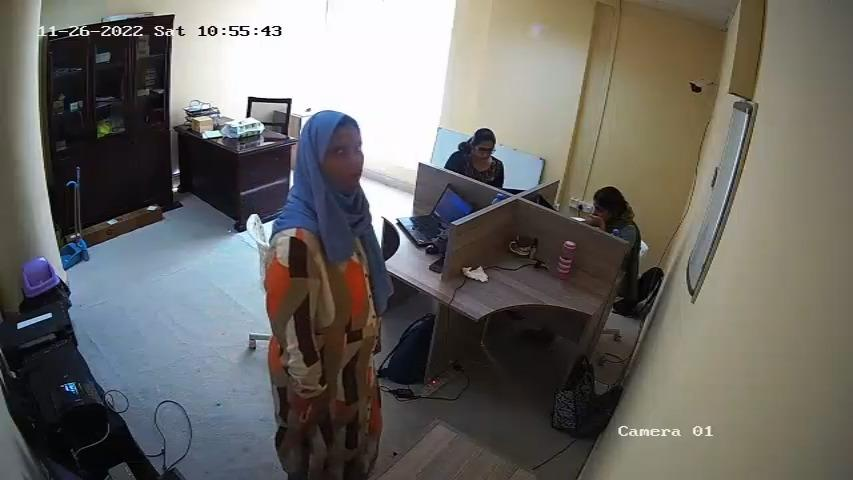no_apron: (280, 231, 374, 394)
